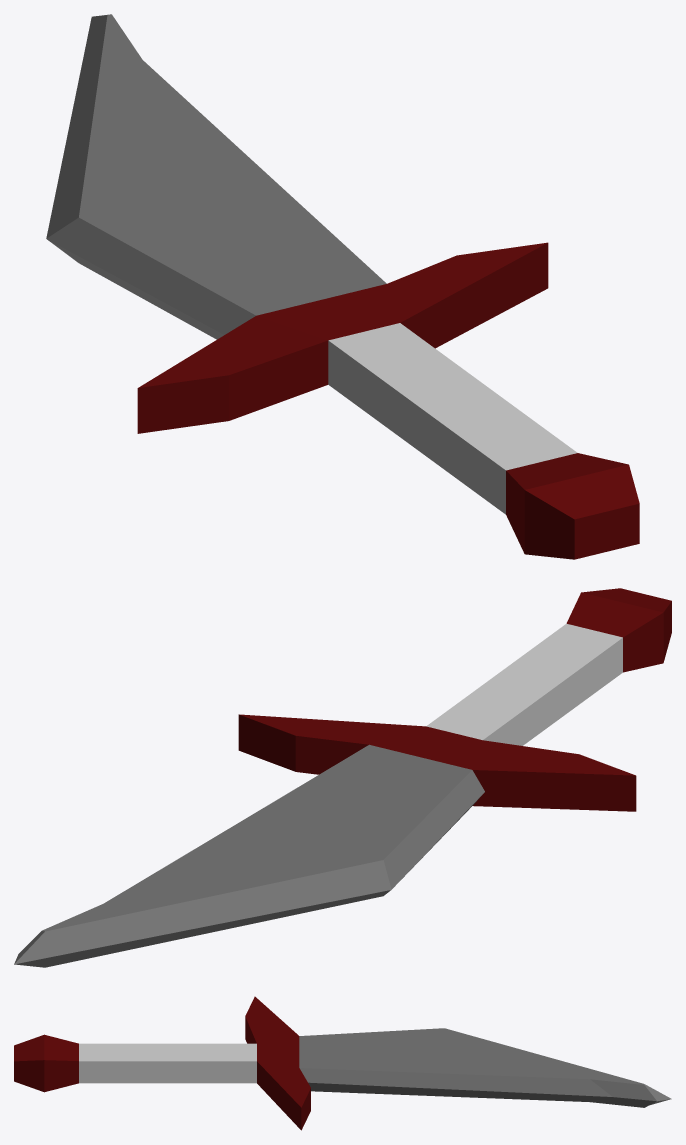
File: Knife.fbx
3 views of the same model, one above another, from view 1: azimuth 30°, elevation 25°; view 2: azimuth 150°, elevation 25°; view 3: azimuth 270°, elevation 25° (orthographic). The views are drawn at different scales.
Visible parts, largest first — view 1: Lez, Ryc, Der; view 2: Lez, Ryc, Der; view 3: Lez, Ryc, Der.
Boxes of the visible parts, x1=… form: Lez: x1=46, y1=14, x2=386, y2=339; Ryc: x1=137, y1=242, x2=639, y2=559; Der: x1=328, y1=323, x2=577, y2=514; Lez: x1=14, y1=744, x2=484, y2=967; Ryc: x1=238, y1=588, x2=671, y2=811; Der: x1=426, y1=623, x2=622, y2=745; Lez: x1=299, y1=1028, x2=671, y2=1107; Ryc: x1=14, y1=996, x2=310, y2=1130; Der: x1=79, y1=1043, x2=256, y2=1083.
Bounding box in the file's own units: 120 × 16.14 × 299.
